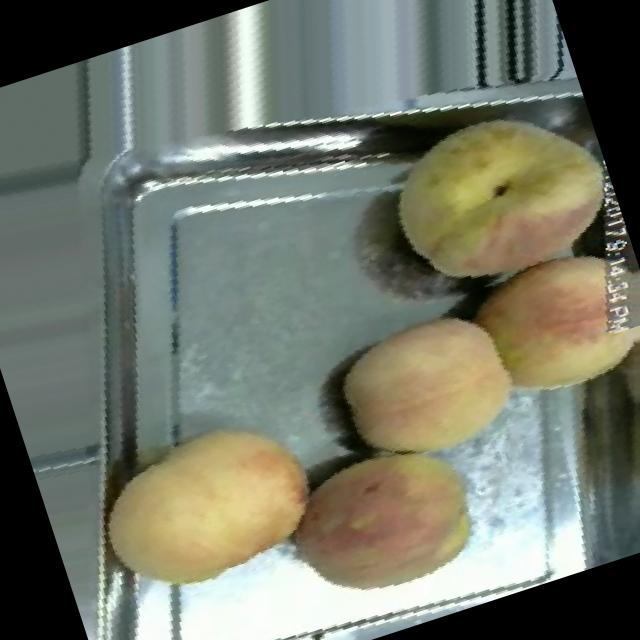Fruit: (57, 372, 356, 636), (348, 67, 630, 312), (251, 400, 515, 634), (298, 273, 544, 501), (440, 237, 640, 444)
